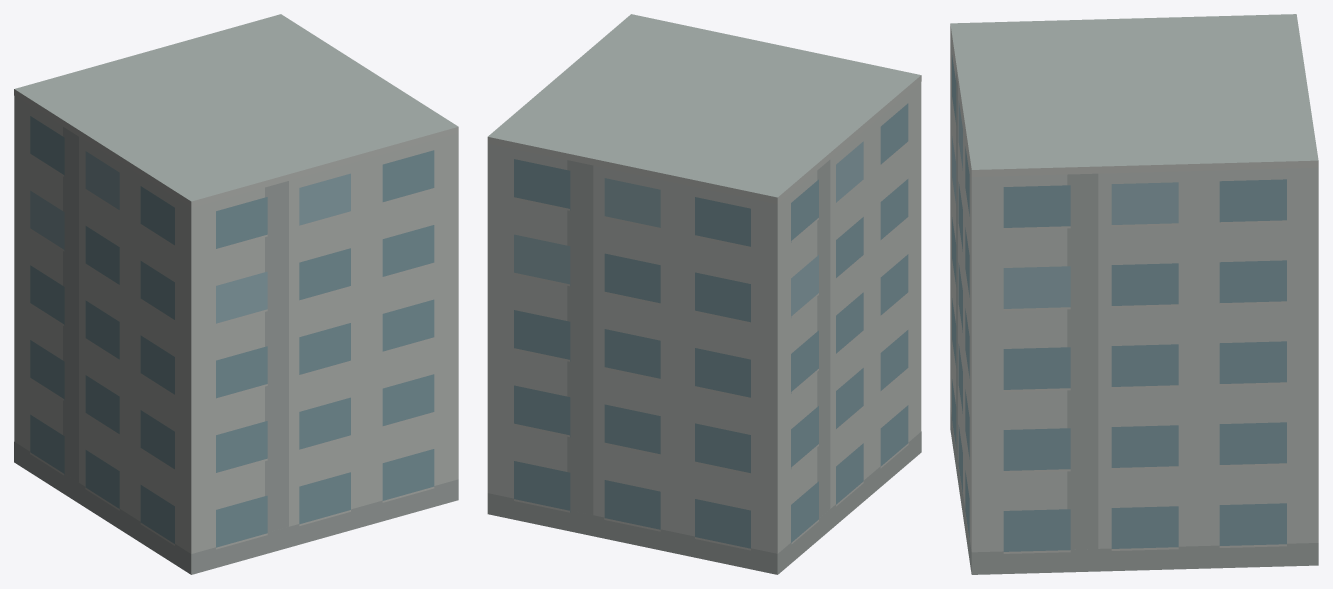
Rendered from survey-upis-32908525.glb.
3 renders of one model, left to right at view 1: azimuth 30°, elevation 25°; view 2: azimuth 150°, elevation 25°; view 3: azimuth 270°, elevation 25°, orthographic. The views are drawn at different scales.
Visible parts, largest first — view 1: survey-upis-32908525.tmp; view 2: survey-upis-32908525.tmp; view 3: survey-upis-32908525.tmp.
Boxes of the visible parts, bbox=[...] form: survey-upis-32908525.tmp: bbox=[14, 14, 458, 574]; survey-upis-32908525.tmp: bbox=[487, 14, 921, 574]; survey-upis-32908525.tmp: bbox=[950, 14, 1318, 574].
Bounding box in the file's own units: 11.49 × 13.9 × 11.47.
